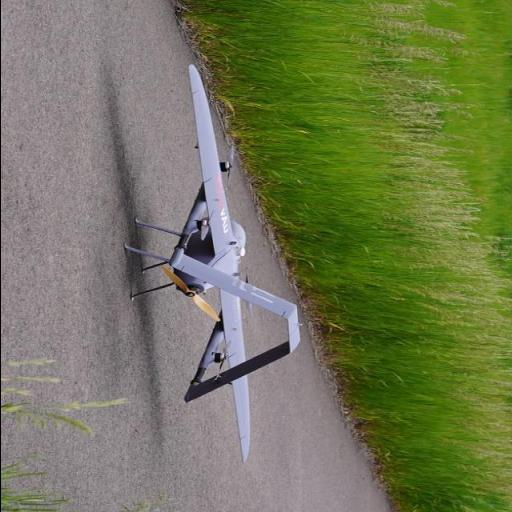uav: (136, 62, 309, 470)
